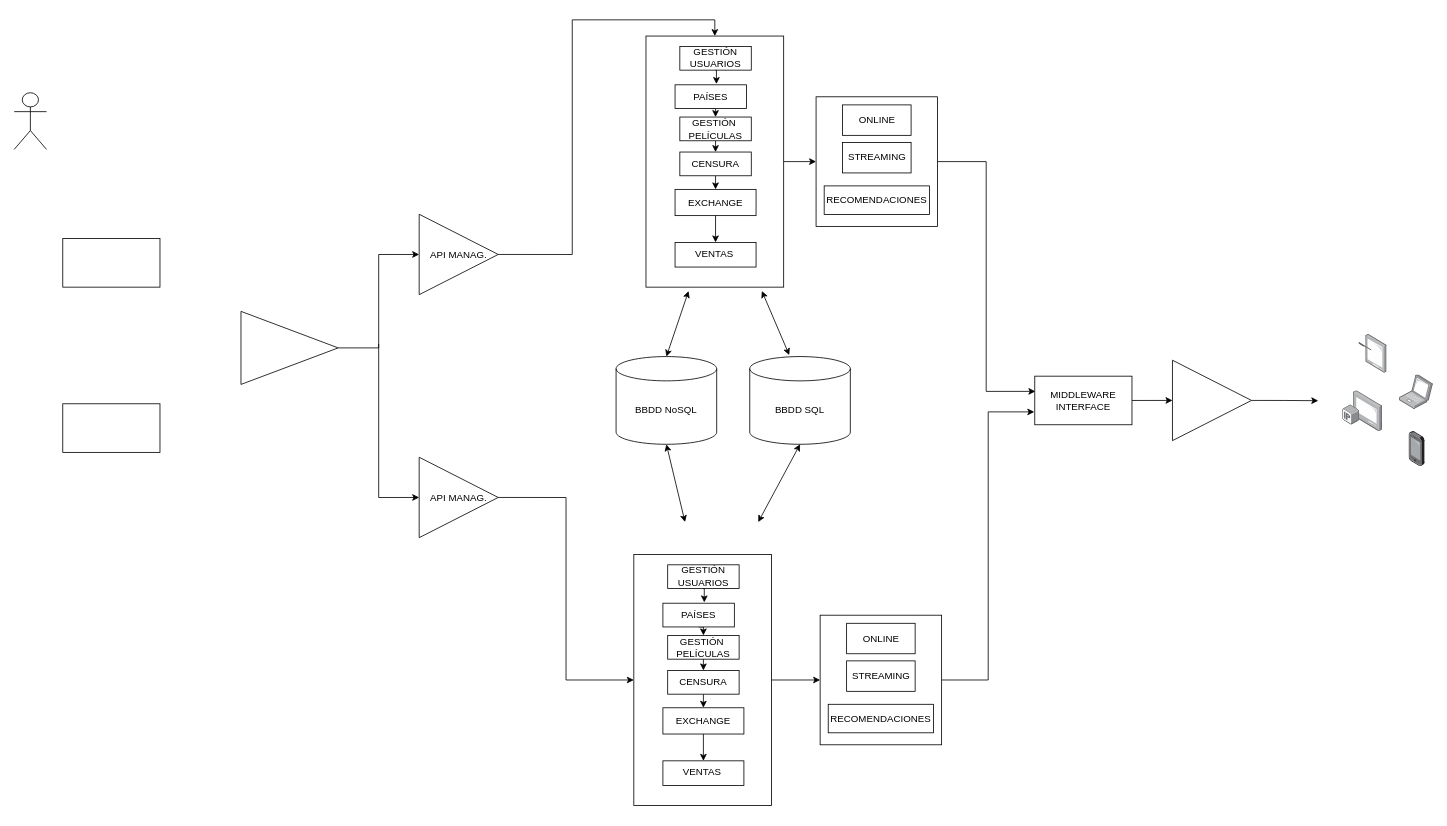
This 1447x826 diagram has some shape labels left out. Here are the shapes that lost their labels. From the top down, the box of each, then its label:
(13, 92, 47, 149): Actor
(240, 311, 338, 384): LOAD BALANCER
(1172, 359, 1252, 441): API GATEWAY
